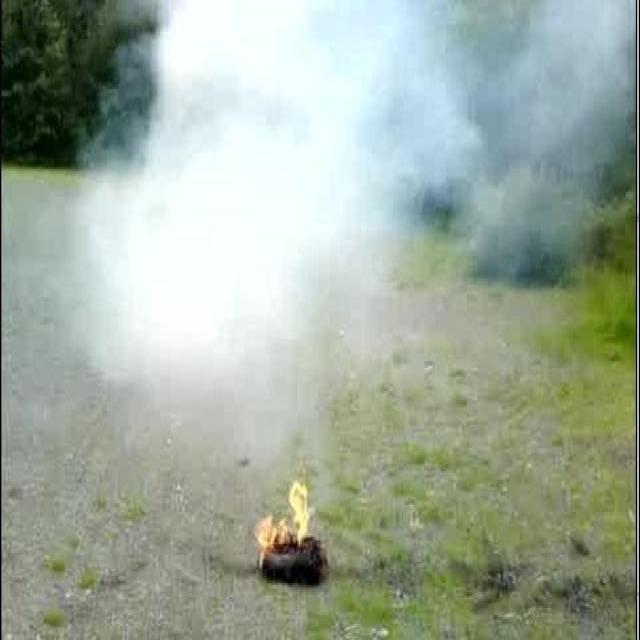Fire: (252, 479, 317, 571)
Smoke: (59, 0, 635, 473)
